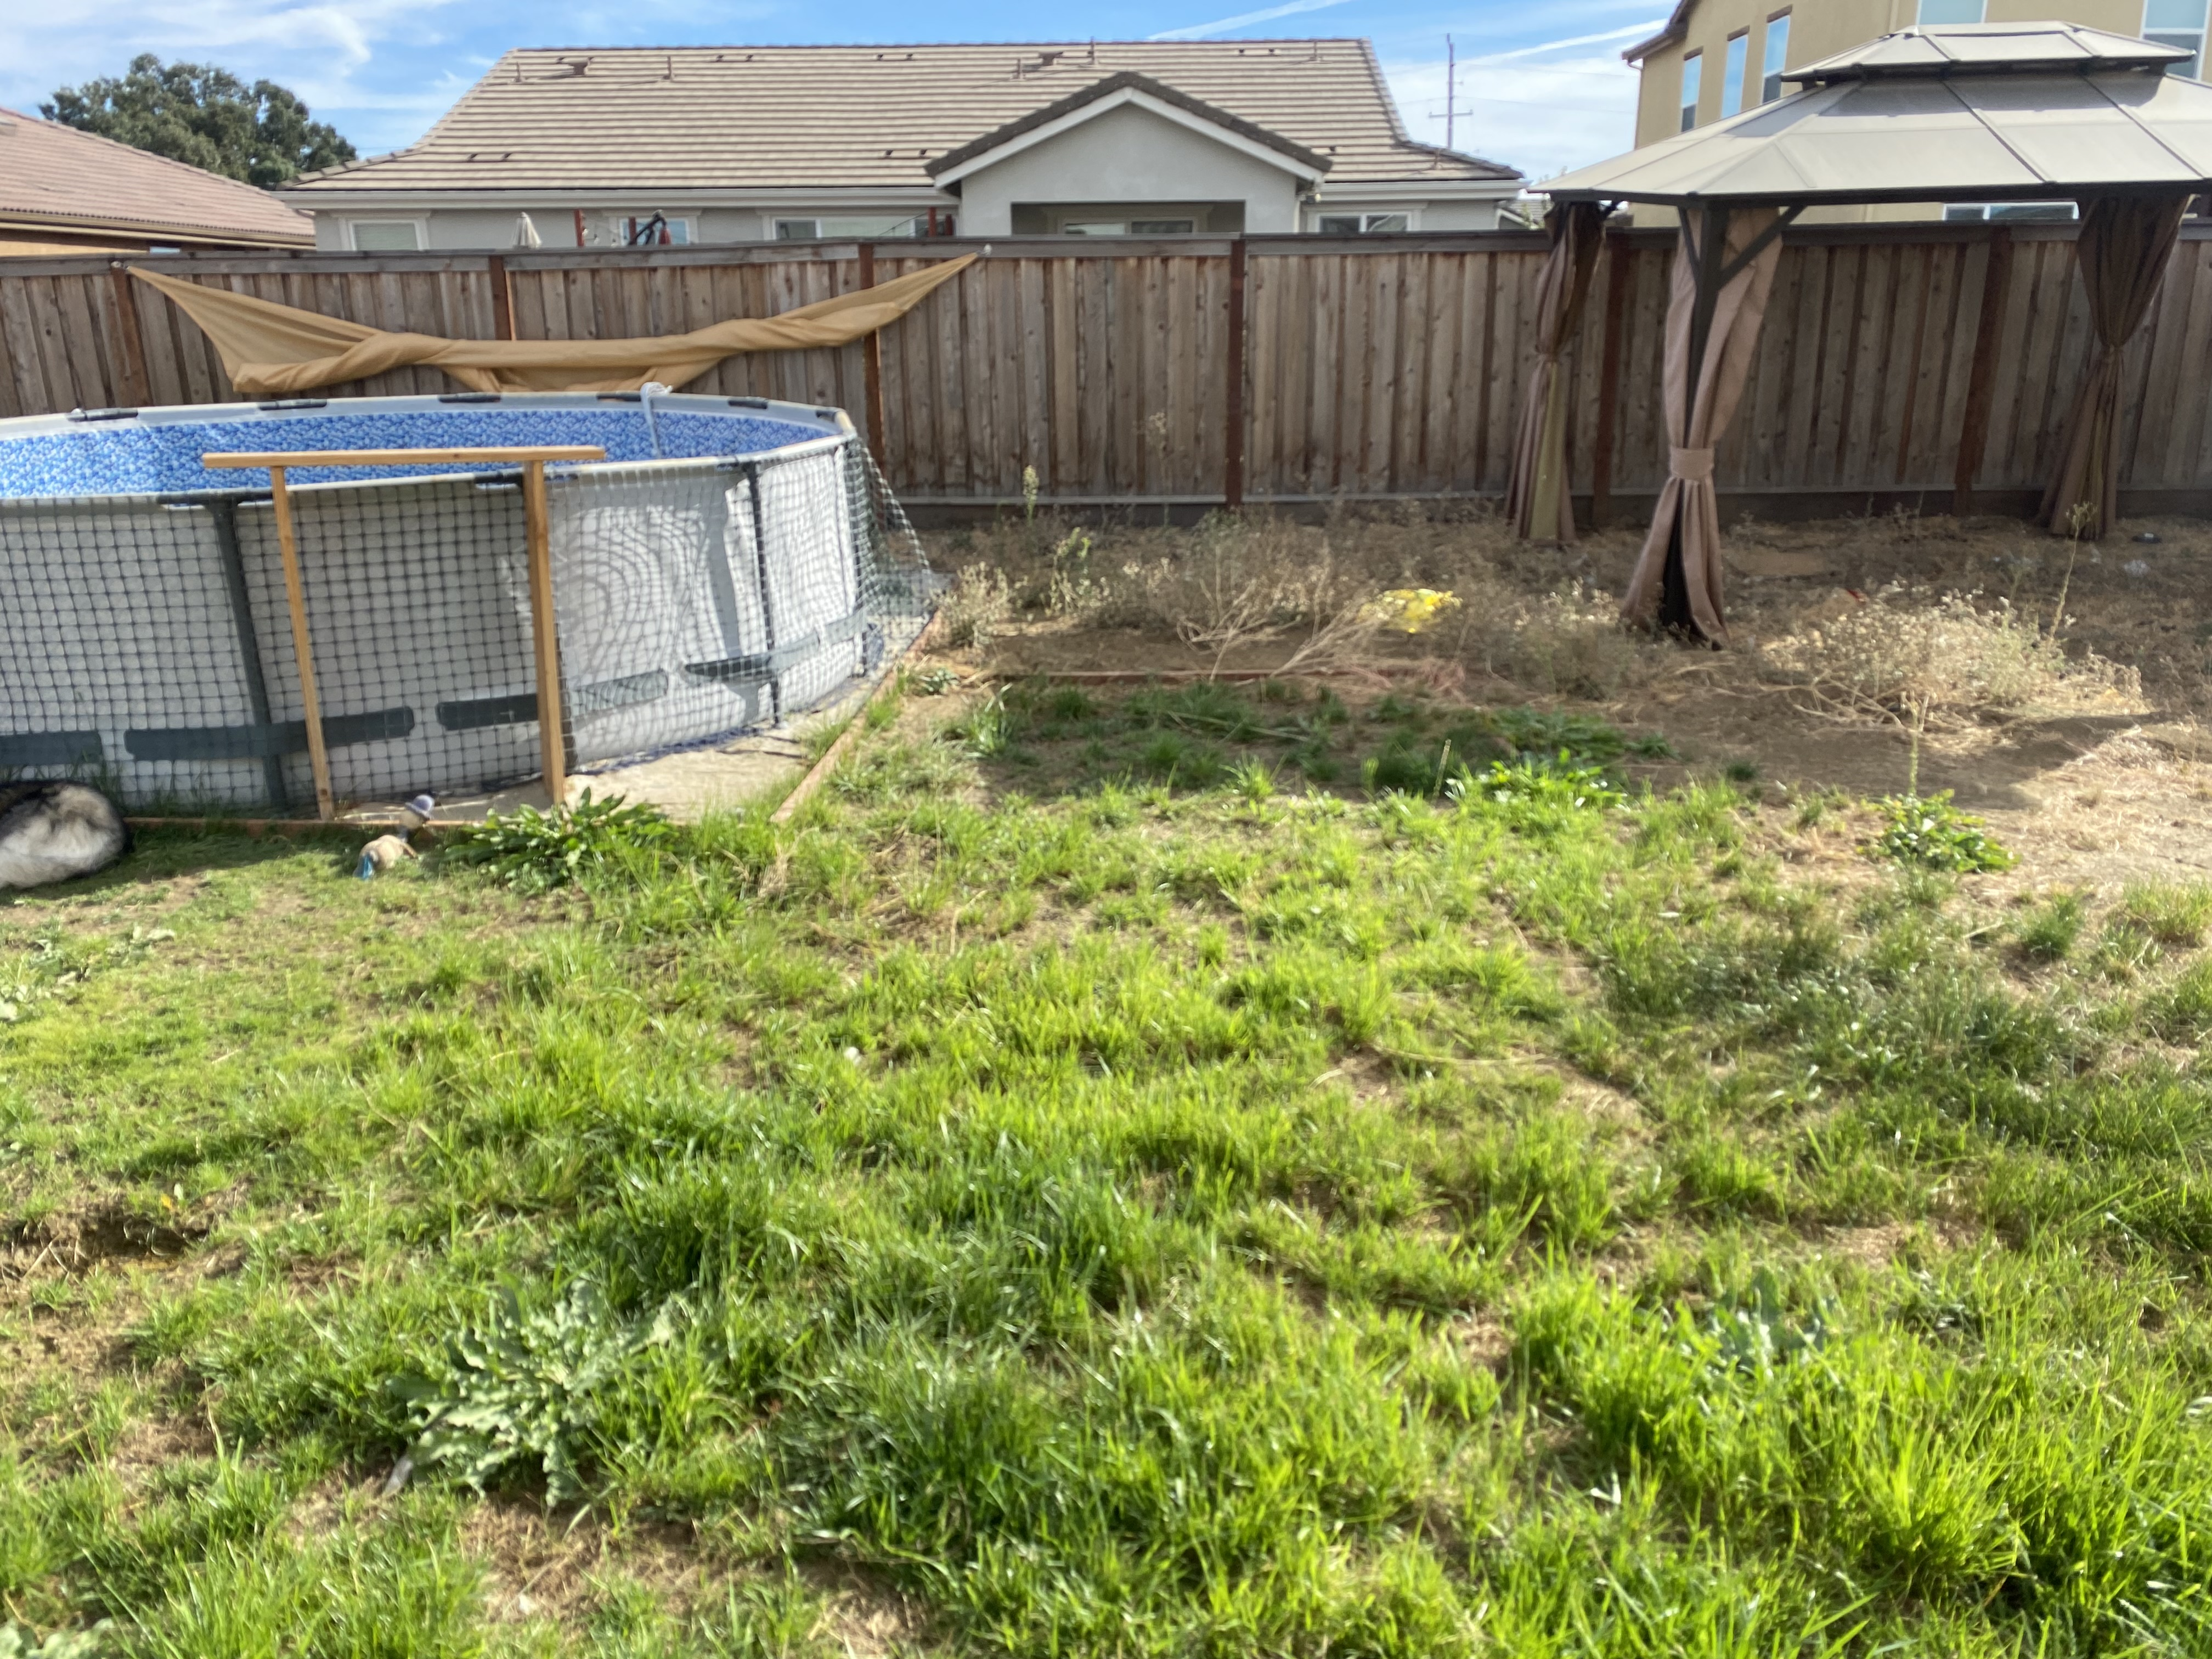weed: (394, 1286, 747, 1467), (439, 781, 732, 904), (1662, 1283, 1876, 1375)
